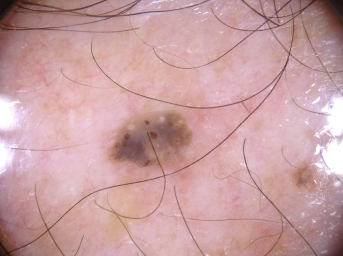seborrheic keratosis: (101, 90, 197, 175)
